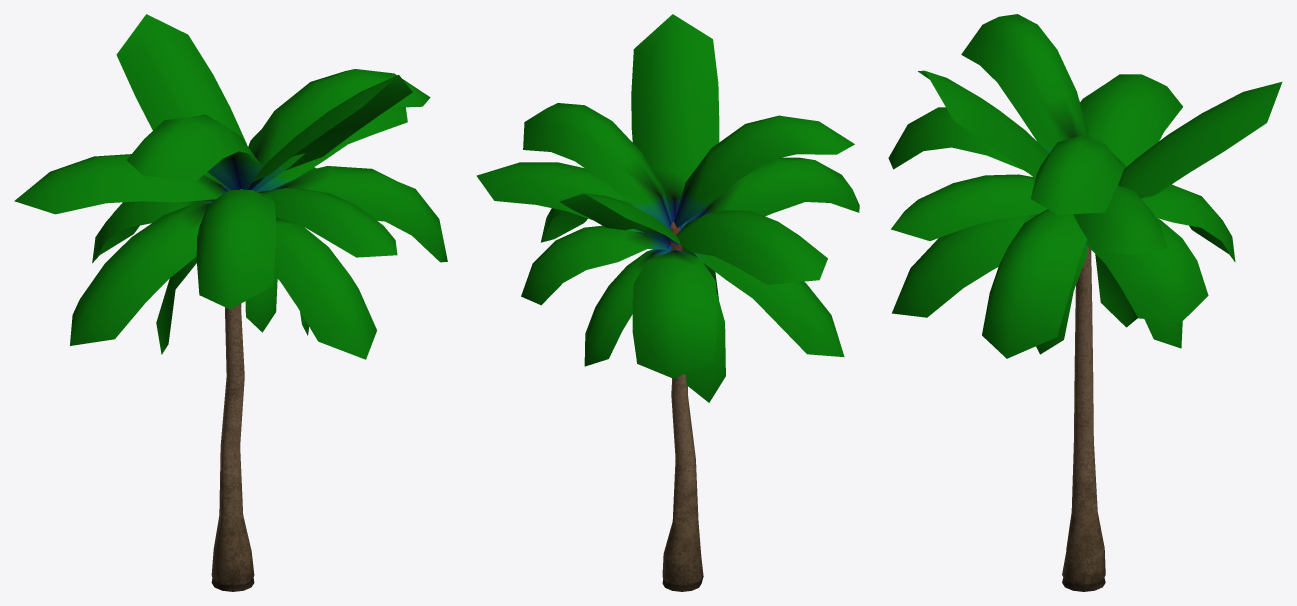
File: PalmTree_Straight.FBX
The picture shows the model from 3 angles, left to right: view 1: azimuth 30°, elevation 25°; view 2: azimuth 150°, elevation 25°; view 3: azimuth 270°, elevation 25°; orthographic projection. The views are drawn at different scales.
Parts seen in each view (by area): view 1: PalmTree_Straight; view 2: PalmTree_Straight; view 3: PalmTree_Straight.
Part boxes in pixels (x1=…): PalmTree_Straight: x1=14, y1=14, x2=447, y2=591; PalmTree_Straight: x1=476, y1=14, x2=859, y2=591; PalmTree_Straight: x1=888, y1=14, x2=1282, y2=591.
Bounding box in the file's own units: 951 × 1291 × 830.
